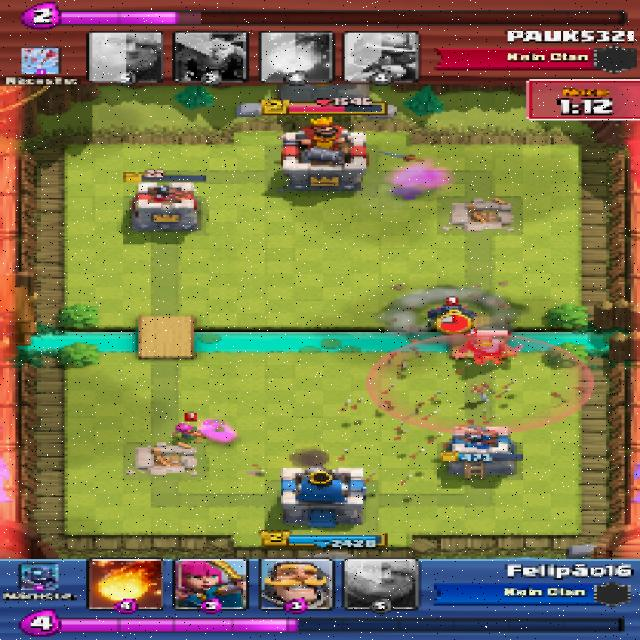Enemy-Archer: (170, 423, 203, 439)
Enemy-Knight: (463, 336, 516, 364)
Enemy-MiniPEKKA: (431, 304, 470, 326)
Player-Arrow: (370, 332, 595, 433)
